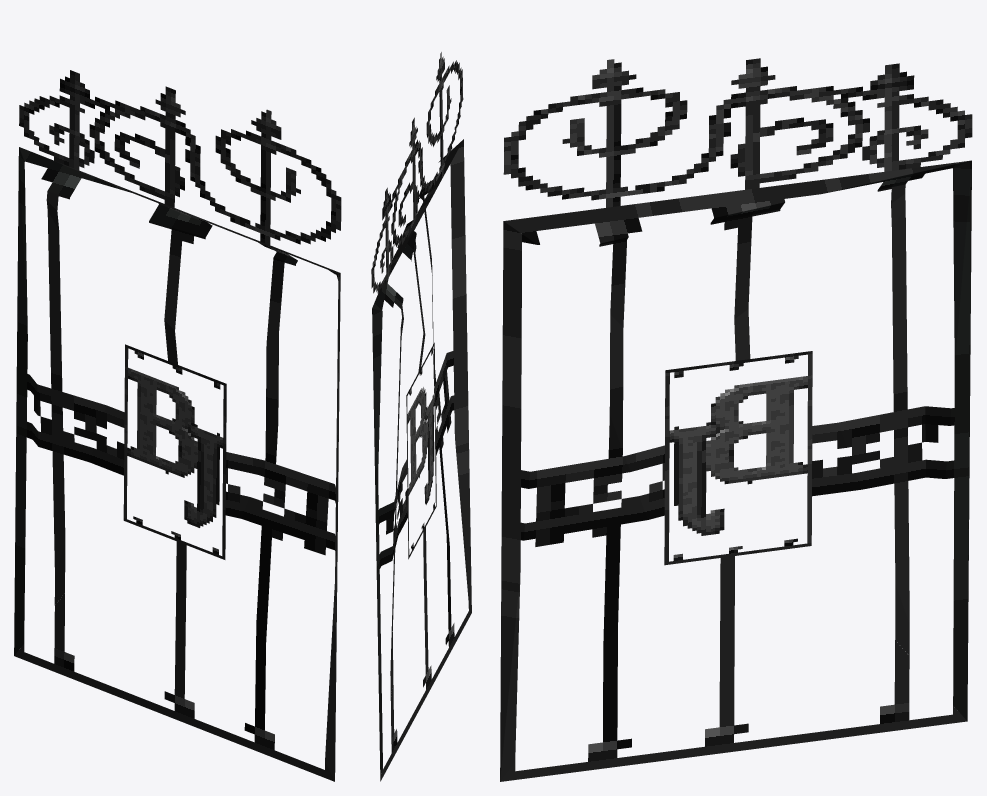
Rendered from metal_gate.glb.
3 views of the same model, side by side, from view 1: azimuth 30°, elevation 25°; view 2: azimuth 150°, elevation 25°; view 3: azimuth 270°, elevation 25° (orthographic). The views are drawn at different scales.
Parts seen in each view (by area): view 1: Object; view 2: Object; view 3: Object.
Boxes of the visible parts, <box> form: Object: <box>14,70,341,781</box>; Object: <box>371,52,471,781</box>; Object: <box>500,58,972,781</box>.
Bounding box in the file's own units: 1.37 × 6.23 × 3.74.
4 materials, 4 textured.
